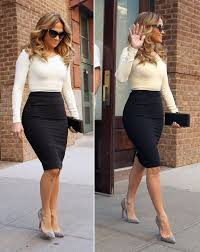F_tailored skirt: (15, 88, 77, 178), (118, 88, 167, 171)
